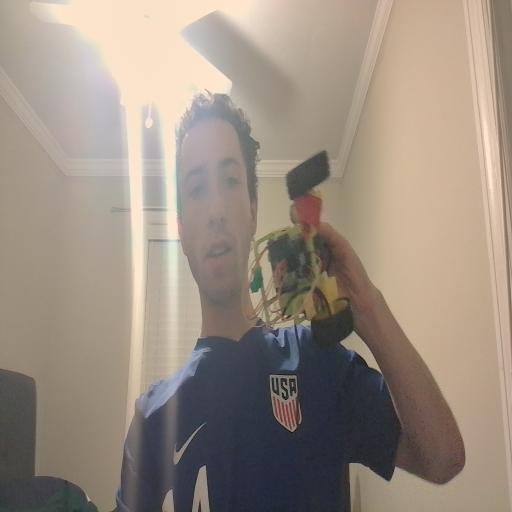green LEGO minifig: (248, 267, 264, 293)
